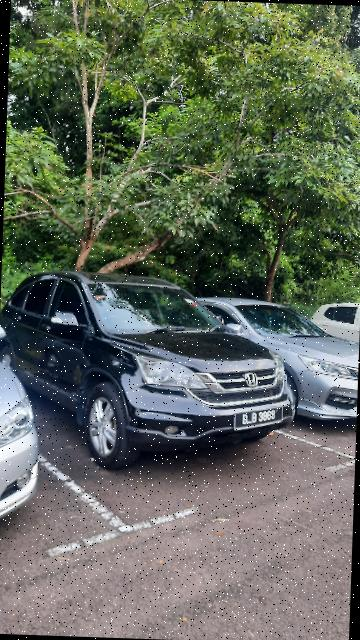License_Plate: (234, 404, 288, 436)
car: (1, 267, 302, 479), (187, 293, 360, 425)
